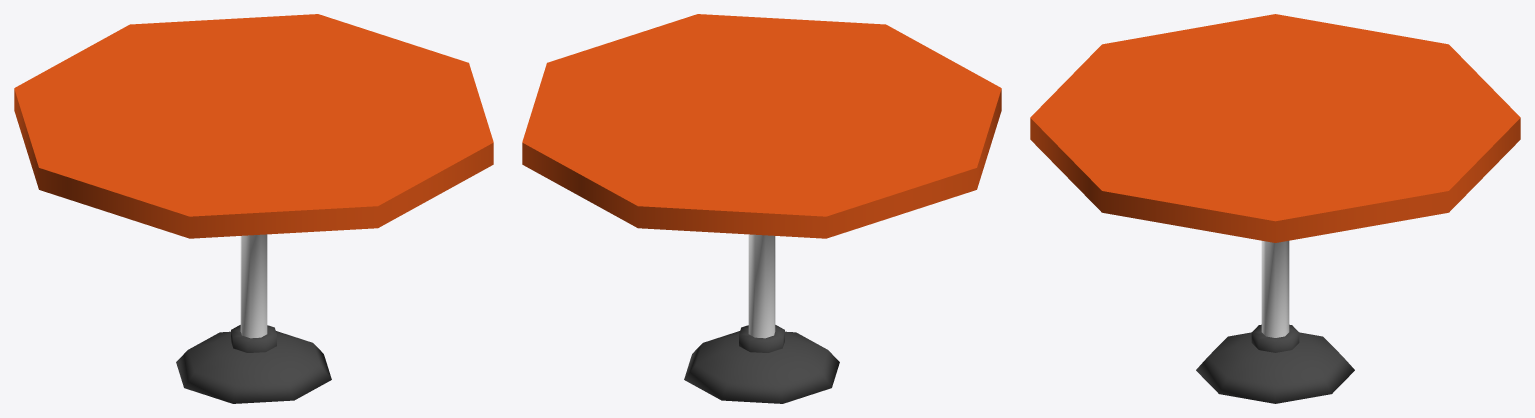
The model's file is Table LowPoly.fbx.
3 renders of one model, left to right at view 1: azimuth 30°, elevation 25°; view 2: azimuth 150°, elevation 25°; view 3: azimuth 270°, elevation 25°, orthographic.
Visible parts, largest first — view 1: Table LowPoly; view 2: Table LowPoly; view 3: Table LowPoly.
Boxes of the visible parts, box(x1,y1,x2,y2) form: Table LowPoly: box(14, 14, 493, 403); Table LowPoly: box(522, 14, 1001, 403); Table LowPoly: box(1030, 14, 1520, 403).
Size of the model in its own units: 3.24 by 3.24 by 1.84.
